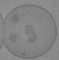small: (25, 25, 34, 34), (10, 33, 19, 42), (28, 33, 36, 41), (12, 15, 20, 23)
